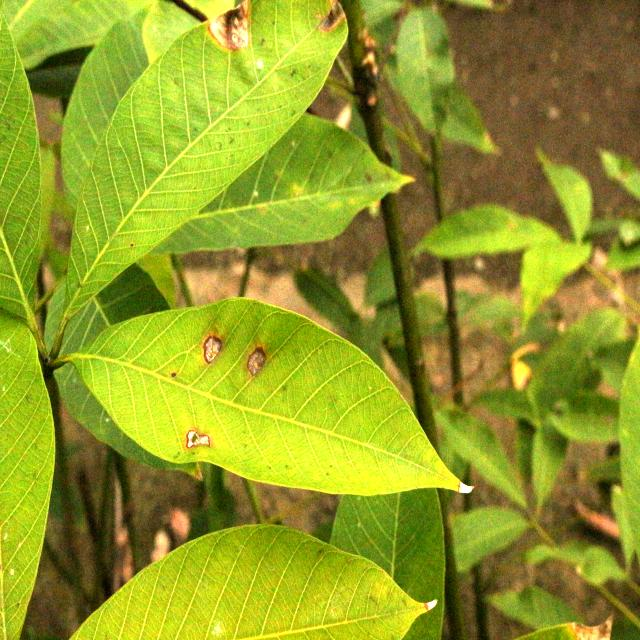Colletotrichum: (248, 348, 267, 377), (204, 336, 222, 366), (171, 372, 176, 378)
Leaf-Blight: (209, 0, 249, 50), (318, 0, 346, 33), (458, 480, 474, 495), (424, 599, 438, 610)
